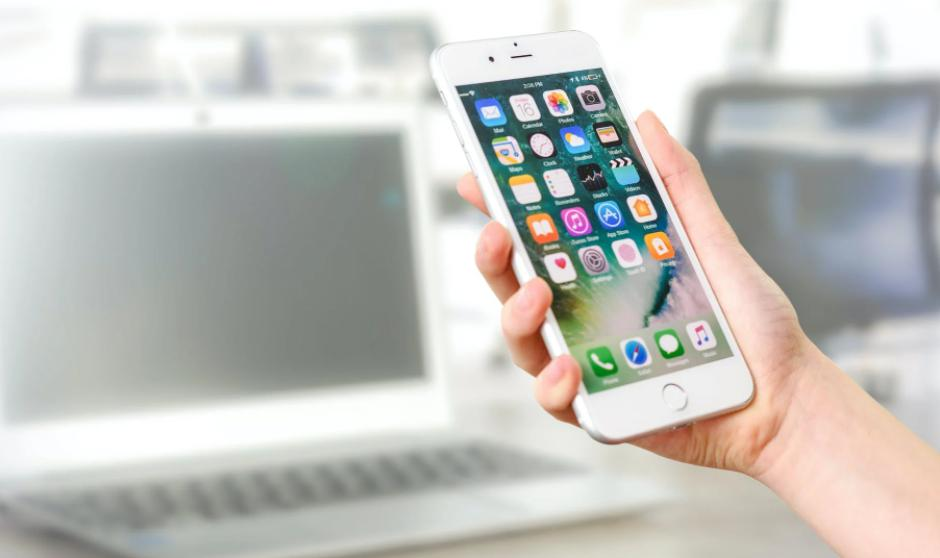mobile: (431, 31, 756, 445)
